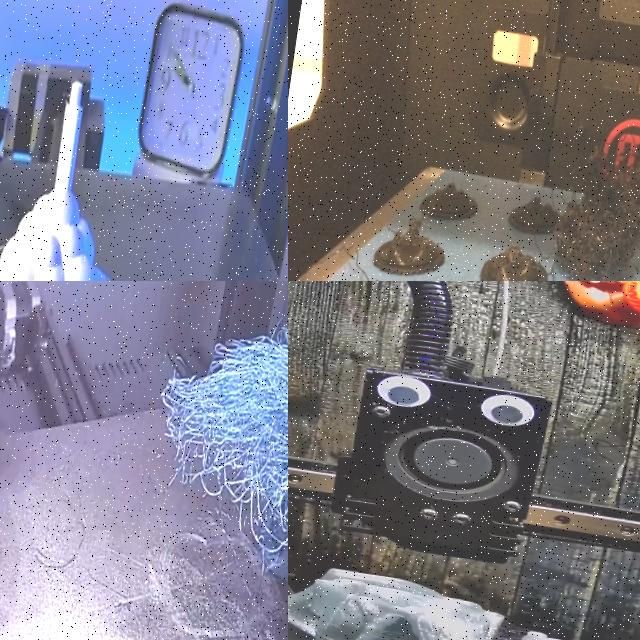spaghetti: (160, 325, 288, 588), (553, 160, 640, 281), (116, 600, 138, 617)
